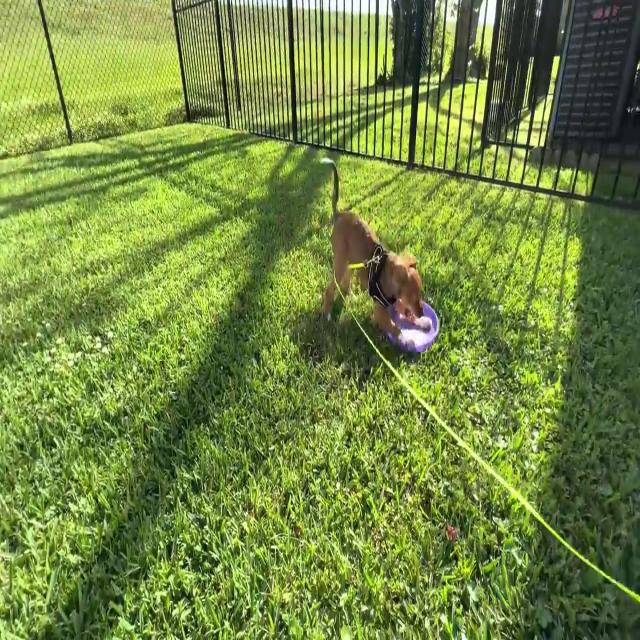Dog: (320, 156, 426, 338)
